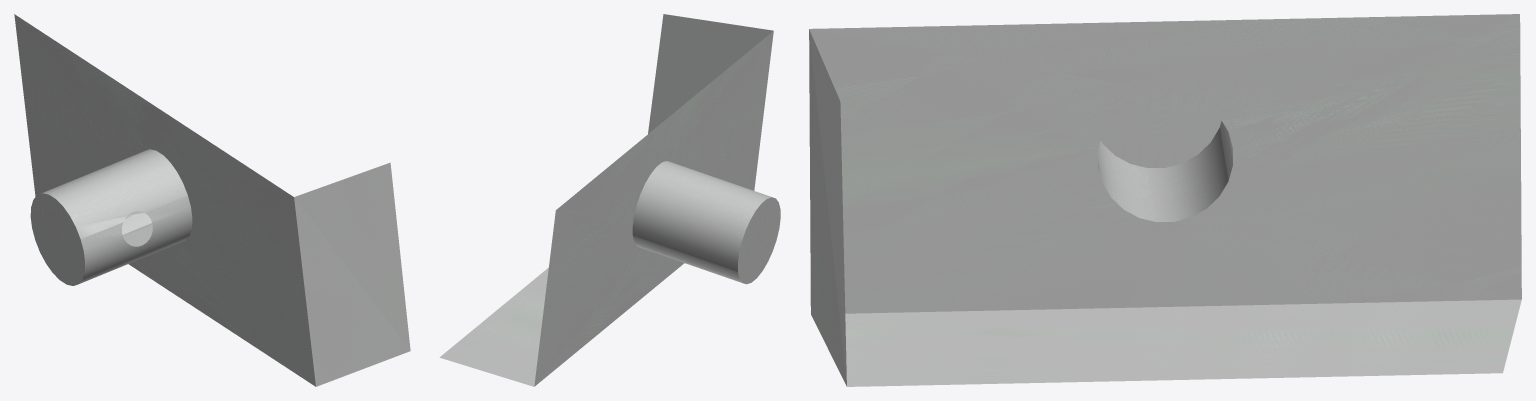
The model's file is original-5.obj.
The picture shows the model from 3 angles, left to right: view 1: azimuth 30°, elevation 25°; view 2: azimuth 150°, elevation 25°; view 3: azimuth 270°, elevation 25°; orthographic projection. The views are drawn at different scales.
Visible parts, largest first — view 1: 3dw.e2c049a1e7b7004bf44a292ef014253/Model/mesh1/mesh1-geometry/m; view 2: 3dw.e2c049a1e7b7004bf44a292ef014253/Model/mesh1/mesh1-geometry/m; view 3: 3dw.e2c049a1e7b7004bf44a292ef014253/Model/mesh1/mesh1-geometry/m.
Part boxes in pixels (x1,y1,x2,y2): 3dw.e2c049a1e7b7004bf44a292ef014253/Model/mesh1/mesh1-geometry/m: (14,14,410,386); 3dw.e2c049a1e7b7004bf44a292ef014253/Model/mesh1/mesh1-geometry/m: (439,14,780,386); 3dw.e2c049a1e7b7004bf44a292ef014253/Model/mesh1/mesh1-geometry/m: (809,14,1521,386).
Bounding box in the file's own units: 0.122 × 0.0927 × 0.2215.
Materials: 2 (1 with a texture image).
